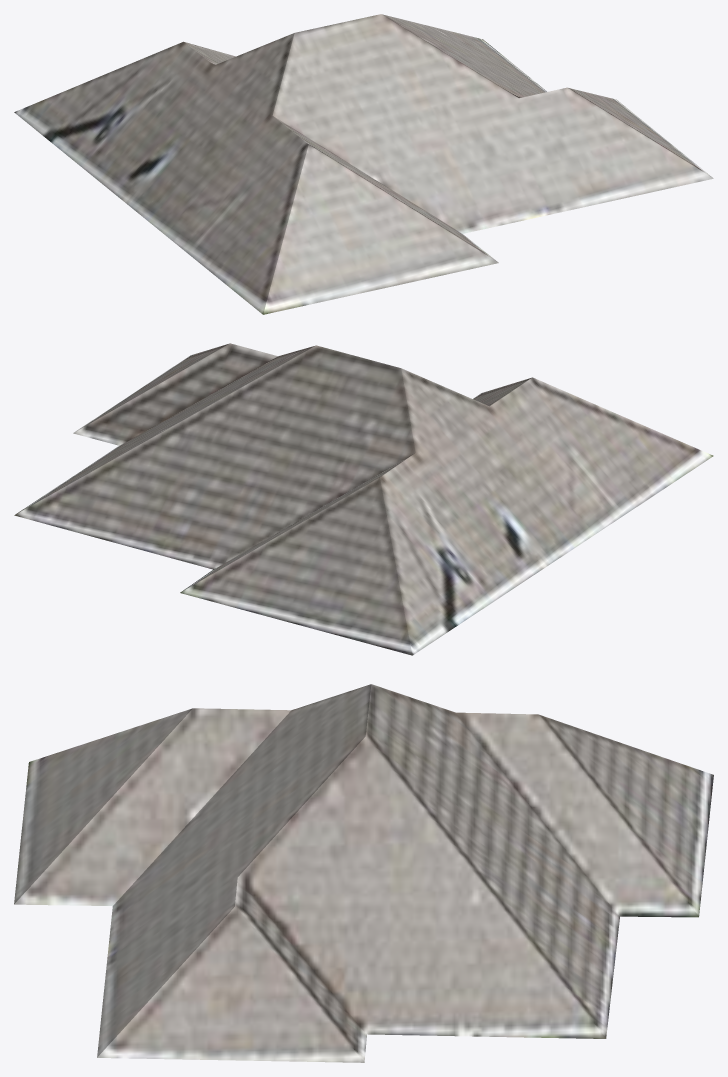
Rendered from CG10_500_038059_0054_roof.obj.
3 views of the same model, one above another, from view 1: azimuth 30°, elevation 25°; view 2: azimuth 150°, elevation 25°; view 3: azimuth 270°, elevation 25° (orthographic). The views are drawn at different scales.
Parts seen in each view (by area): view 1: CG10_500_038059_0054_roof; view 2: CG10_500_038059_0054_roof; view 3: CG10_500_038059_0054_roof.
Boxes of the visible parts, x1=… form: CG10_500_038059_0054_roof: x1=14, y1=14, x2=713, y2=314; CG10_500_038059_0054_roof: x1=14, y1=343, x2=713, y2=655; CG10_500_038059_0054_roof: x1=14, y1=684, x2=713, y2=1062.
Bounding box in the file's own units: 249 × 70 × 245.
1 material, 1 textured.
